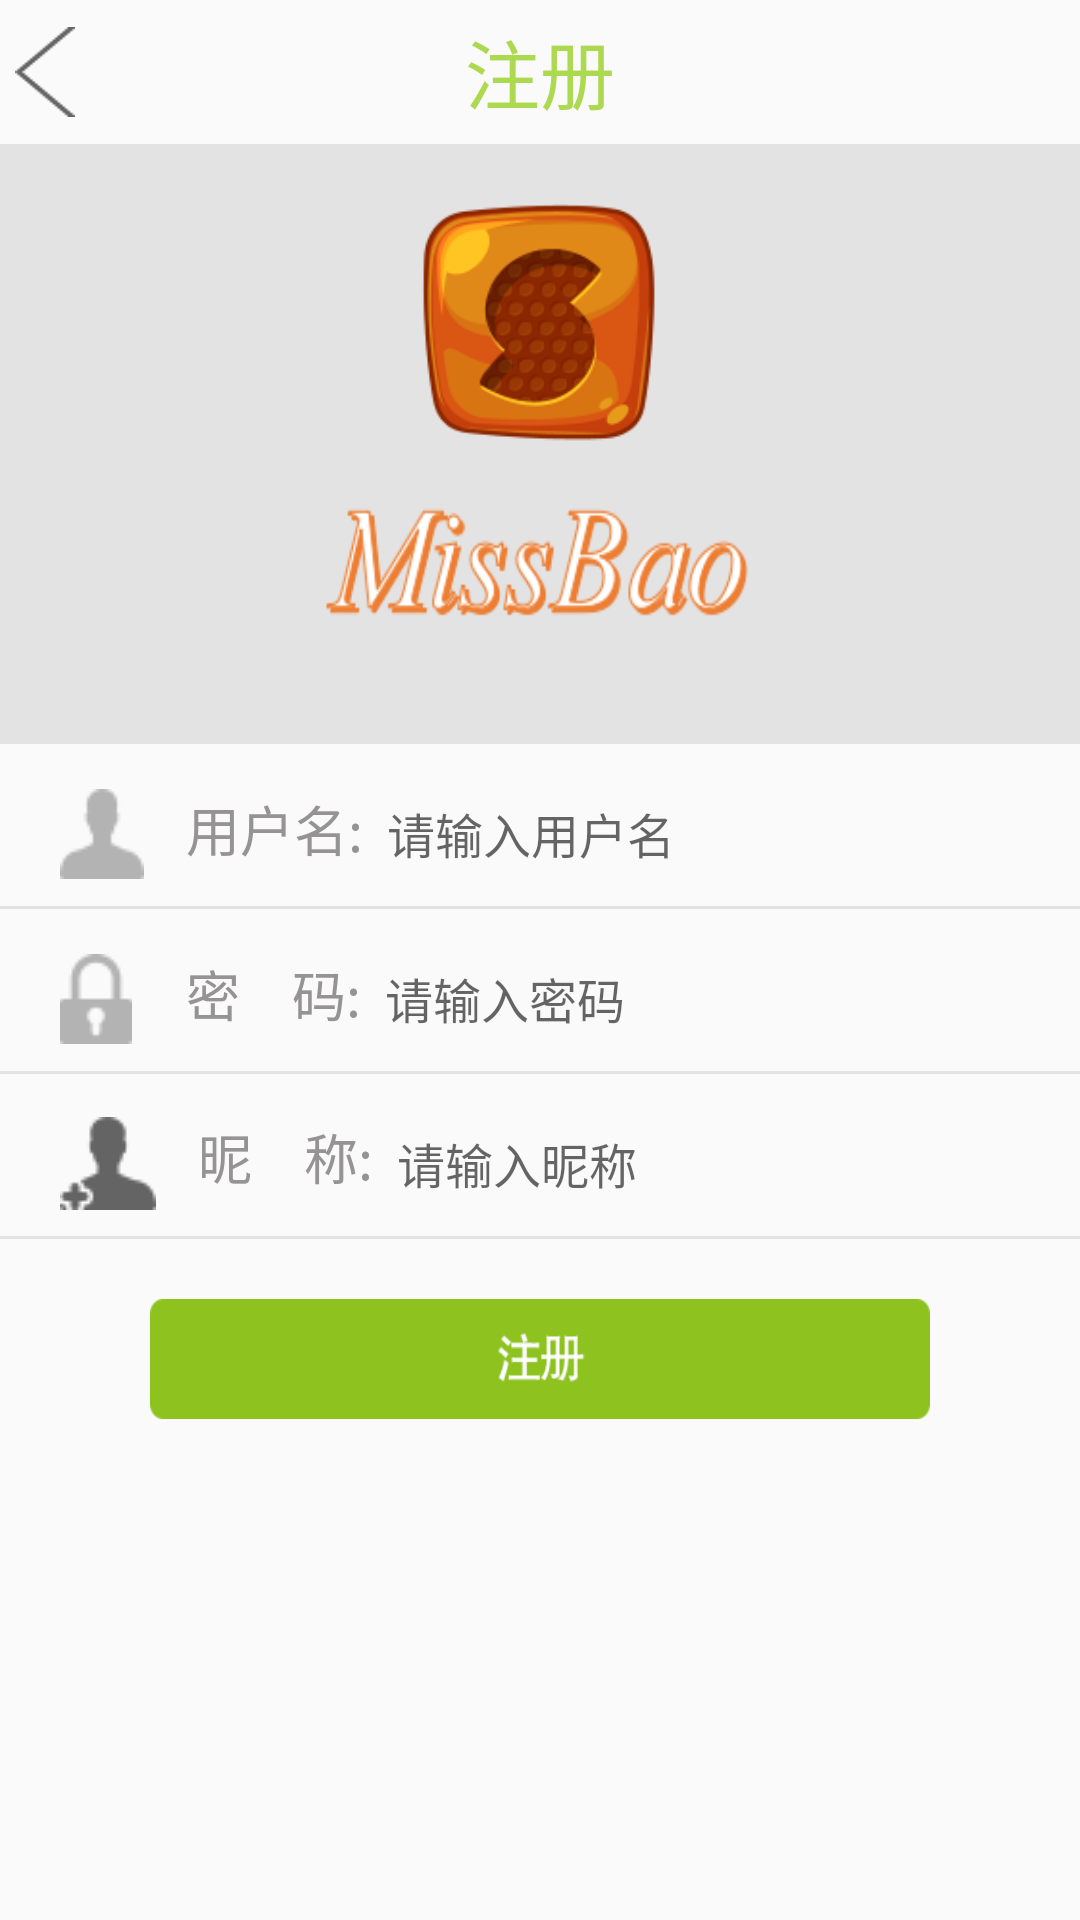

Named icons in this screenshot (1080 x 1920) and their centers, (x,y):
back: (45,72)
